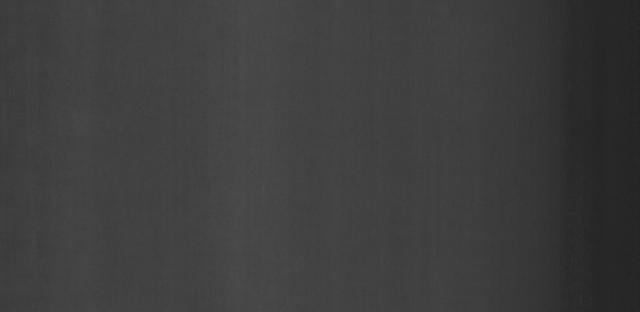silk_spot: (40, 51, 103, 88)
